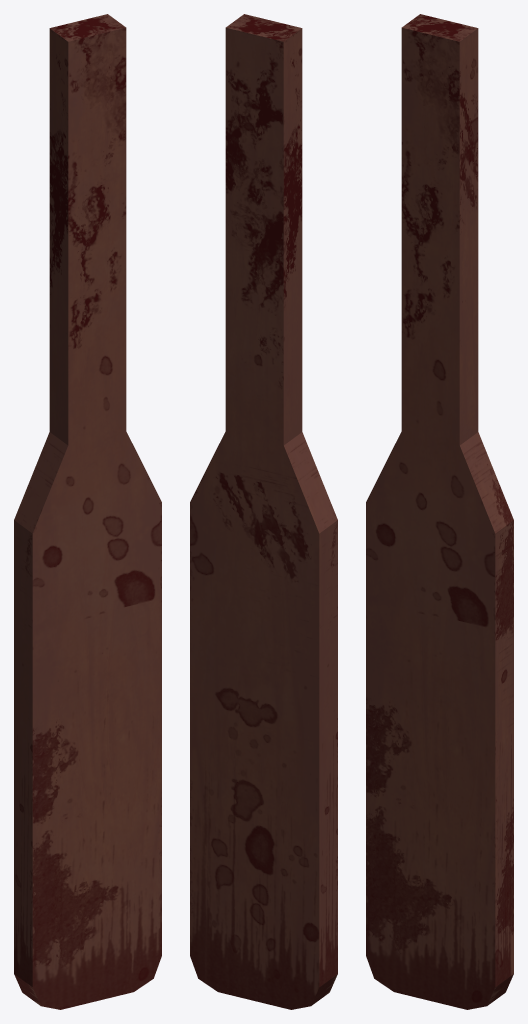
Rendered from gon.fbx.
The picture shows the model from 3 angles, left to right: view 1: azimuth 30°, elevation 25°; view 2: azimuth 150°, elevation 25°; view 3: azimuth 330°, elevation 25°; orthographic projection.
Parts seen in each view (by area): view 1: gon_low; view 2: gon_low; view 3: gon_low.
Boxes of the visible parts, <box> form: gon_low: <box>14,14,161,1009</box>; gon_low: <box>190,14,337,1009</box>; gon_low: <box>366,14,513,1009</box>.
Bounding box in the file's own units: 28 × 200 × 7.
